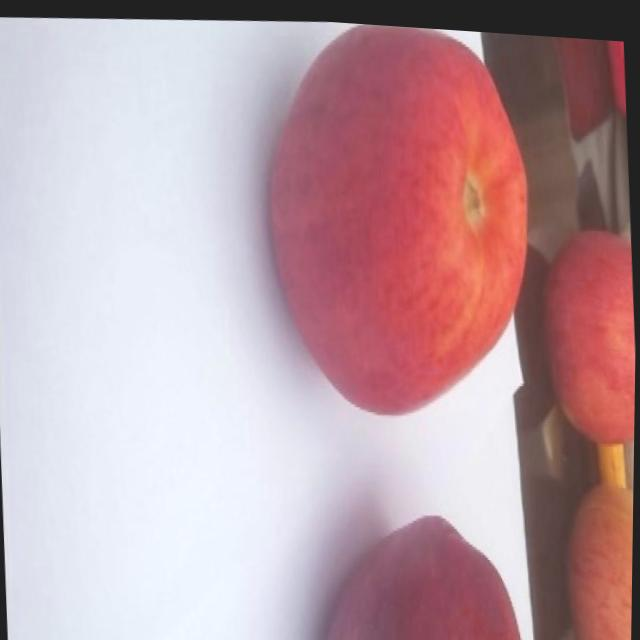Apple: (249, 13, 548, 432), (311, 499, 535, 640), (541, 216, 638, 438), (562, 471, 635, 640)
